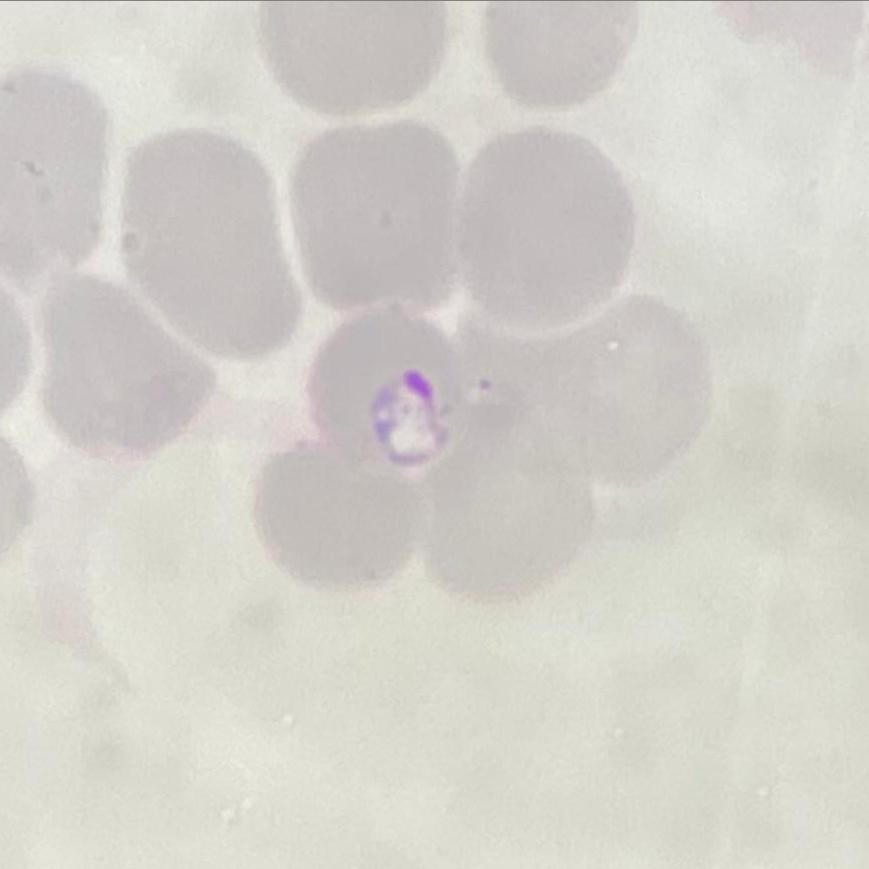Infected: (307, 310, 472, 474)
Uninfected: (118, 124, 298, 359), (453, 127, 634, 331), (38, 265, 216, 459), (287, 117, 466, 309), (542, 295, 704, 483), (422, 434, 593, 598), (248, 435, 420, 598), (255, 0, 452, 121), (0, 75, 108, 282)
